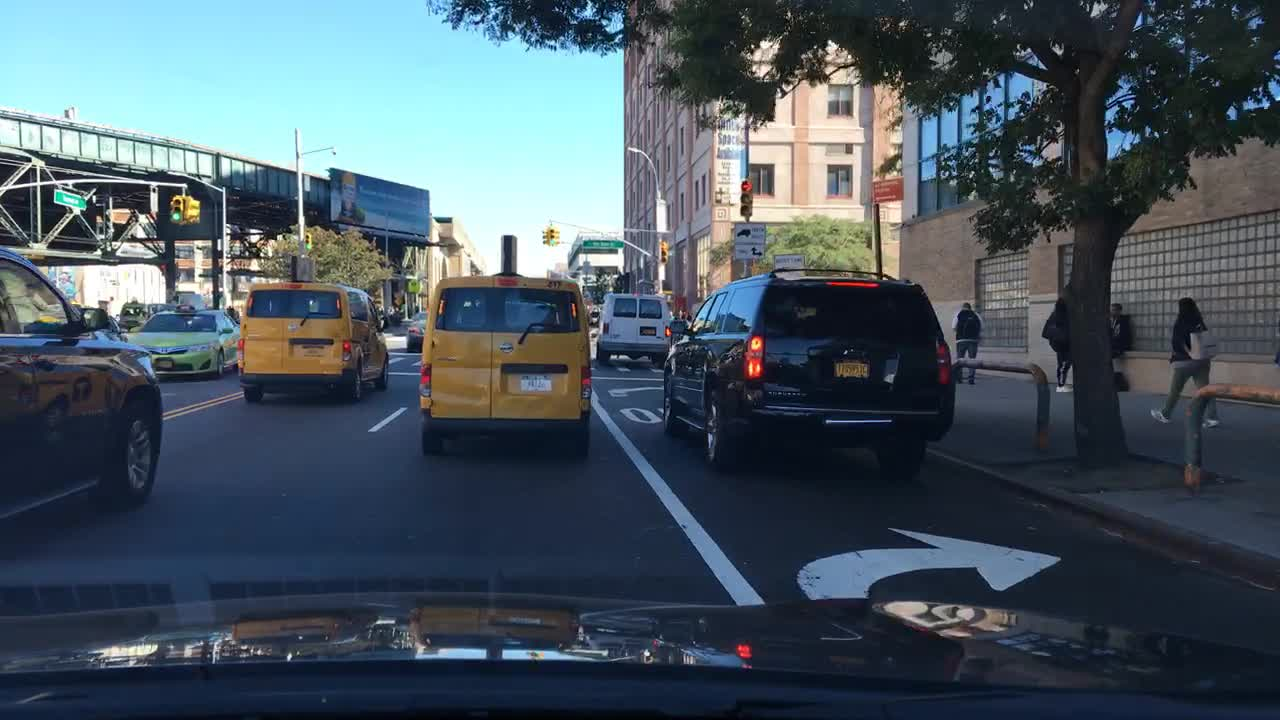car: (660, 263, 956, 482), (1, 243, 164, 539), (416, 233, 597, 460), (236, 257, 391, 406), (124, 289, 239, 379), (594, 290, 678, 365), (403, 308, 428, 352), (115, 297, 143, 323), (149, 297, 165, 312)
person: (1146, 294, 1226, 428), (1039, 281, 1077, 392), (949, 297, 982, 388), (1108, 298, 1136, 390), (680, 303, 689, 323)
traffic light: (182, 194, 201, 222), (738, 177, 752, 214), (170, 194, 181, 220), (658, 238, 665, 265), (555, 226, 562, 245), (546, 230, 554, 244), (541, 225, 546, 244), (303, 233, 308, 249)
traffic sign: (730, 220, 763, 257), (770, 253, 805, 276), (871, 177, 900, 203), (52, 189, 85, 211), (581, 238, 624, 251)
